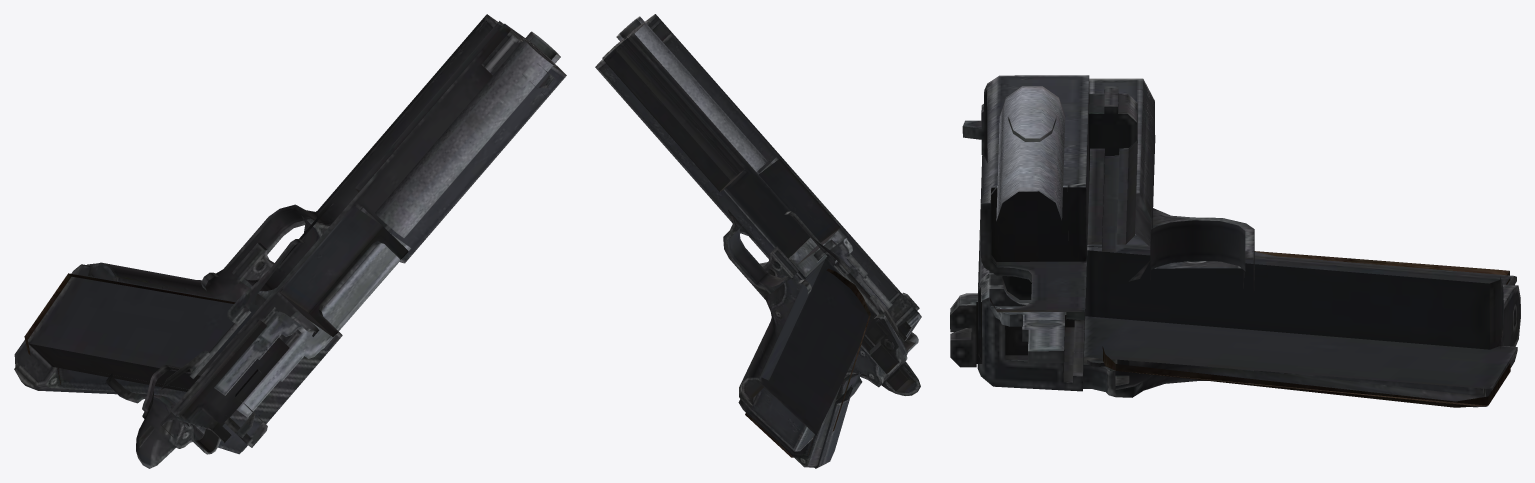
The model's file is pistol.glb.
3 renders of one model, left to right at view 1: azimuth 30°, elevation 25°; view 2: azimuth 150°, elevation 25°; view 3: azimuth 270°, elevation 25°, orthographic. The views are drawn at different scales.
Parts seen in each view (by area): view 1: PistolMount; view 2: PistolMount; view 3: PistolMount.
Boxes of the visible parts, x1,y1,x2,y2 form: PistolMount: (14, 14, 566, 468); PistolMount: (595, 14, 921, 468); PistolMount: (950, 75, 1520, 407).
Bounding box in the file's own units: 16.42 × 14.4 × 12.48.
Materials: 1 (1 with a texture image).
